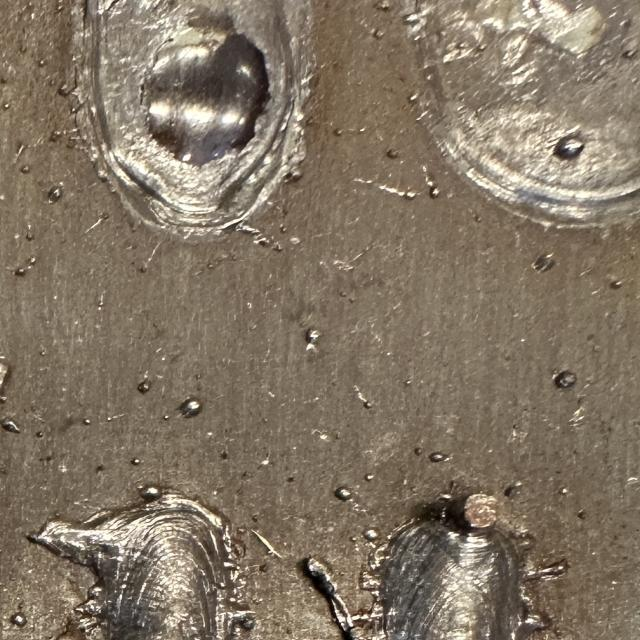Excess Reinforcement: (97, 135, 285, 238), (27, 510, 120, 578), (218, 521, 257, 640), (307, 558, 354, 640), (438, 494, 498, 542), (68, 580, 108, 640), (513, 598, 548, 640), (523, 561, 571, 582), (360, 570, 382, 604), (511, 536, 535, 562)
Spatters: (237, 224, 282, 251), (252, 530, 283, 559), (553, 138, 585, 159), (379, 185, 418, 200), (178, 398, 203, 418), (13, 256, 37, 276), (553, 370, 577, 389), (532, 254, 557, 272), (354, 385, 372, 409), (140, 486, 163, 502), (503, 481, 523, 499), (1, 358, 10, 391), (333, 486, 352, 501), (47, 185, 63, 202), (10, 612, 27, 628), (305, 329, 322, 344), (428, 451, 450, 462), (2, 421, 20, 434), (137, 379, 152, 394), (57, 82, 73, 96), (363, 529, 378, 541), (404, 13, 421, 23), (428, 185, 440, 199), (624, 48, 638, 59), (425, 175, 436, 189), (377, 0, 390, 11), (387, 149, 400, 159), (372, 29, 383, 40), (408, 92, 420, 102), (610, 280, 623, 289), (20, 165, 30, 174), (37, 60, 47, 68), (458, 41, 468, 49), (365, 474, 375, 481), (130, 458, 140, 465), (413, 448, 422, 455), (333, 129, 342, 136), (478, 45, 487, 52), (2, 103, 10, 110), (35, 431, 43, 438), (83, 419, 90, 425)
